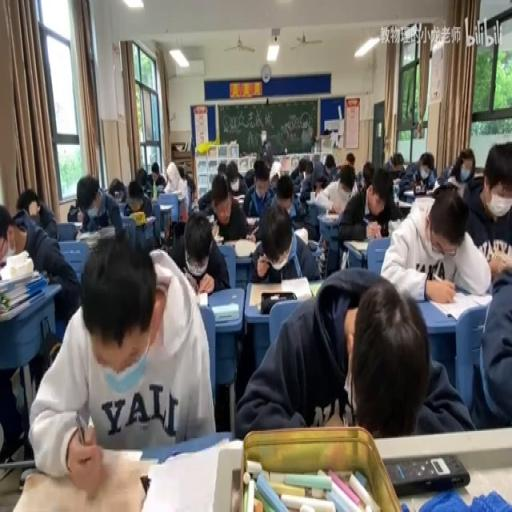calculator: (10, 449, 148, 512), (138, 441, 234, 510), (426, 286, 490, 320), (248, 276, 313, 309), (0, 292, 42, 320), (0, 266, 38, 290), (210, 300, 238, 322), (76, 229, 104, 249), (234, 238, 256, 256), (346, 239, 368, 253), (293, 225, 308, 243), (246, 223, 260, 242), (386, 219, 402, 235), (395, 203, 411, 219), (116, 213, 134, 226), (98, 225, 114, 239), (195, 290, 208, 307), (307, 282, 321, 297), (323, 209, 340, 221), (280, 154, 290, 172), (110, 195, 126, 206), (402, 188, 416, 200), (210, 222, 219, 240), (222, 240, 238, 250), (69, 219, 83, 229), (159, 203, 172, 212), (246, 216, 258, 225), (234, 195, 244, 205), (307, 193, 318, 202), (155, 186, 165, 195), (206, 214, 214, 224), (144, 216, 155, 223), (392, 178, 400, 185)
paper: (30, 229, 212, 481), (234, 269, 469, 439), (380, 182, 491, 299), (469, 263, 510, 427), (248, 202, 322, 286), (334, 164, 396, 258), (166, 206, 226, 293), (74, 174, 124, 234), (208, 172, 250, 242), (15, 186, 60, 240), (242, 158, 276, 219), (395, 151, 437, 199), (436, 148, 474, 190), (123, 180, 152, 220), (0, 202, 14, 263), (182, 174, 196, 216), (382, 150, 404, 174), (324, 152, 342, 181), (148, 161, 166, 189), (290, 155, 308, 183), (260, 138, 275, 168), (361, 159, 374, 191), (276, 189, 292, 212), (226, 160, 239, 188), (313, 162, 326, 188), (66, 199, 80, 222), (338, 178, 354, 198), (135, 168, 147, 189), (12, 209, 26, 226), (426, 176, 438, 192), (344, 151, 354, 168), (473, 165, 485, 179), (270, 172, 278, 191), (216, 162, 226, 176), (177, 164, 185, 179), (162, 181, 172, 192), (303, 169, 312, 181)
person: (386, 452, 470, 494), (230, 468, 242, 510), (139, 474, 150, 495), (308, 239, 318, 250), (414, 184, 424, 194)
